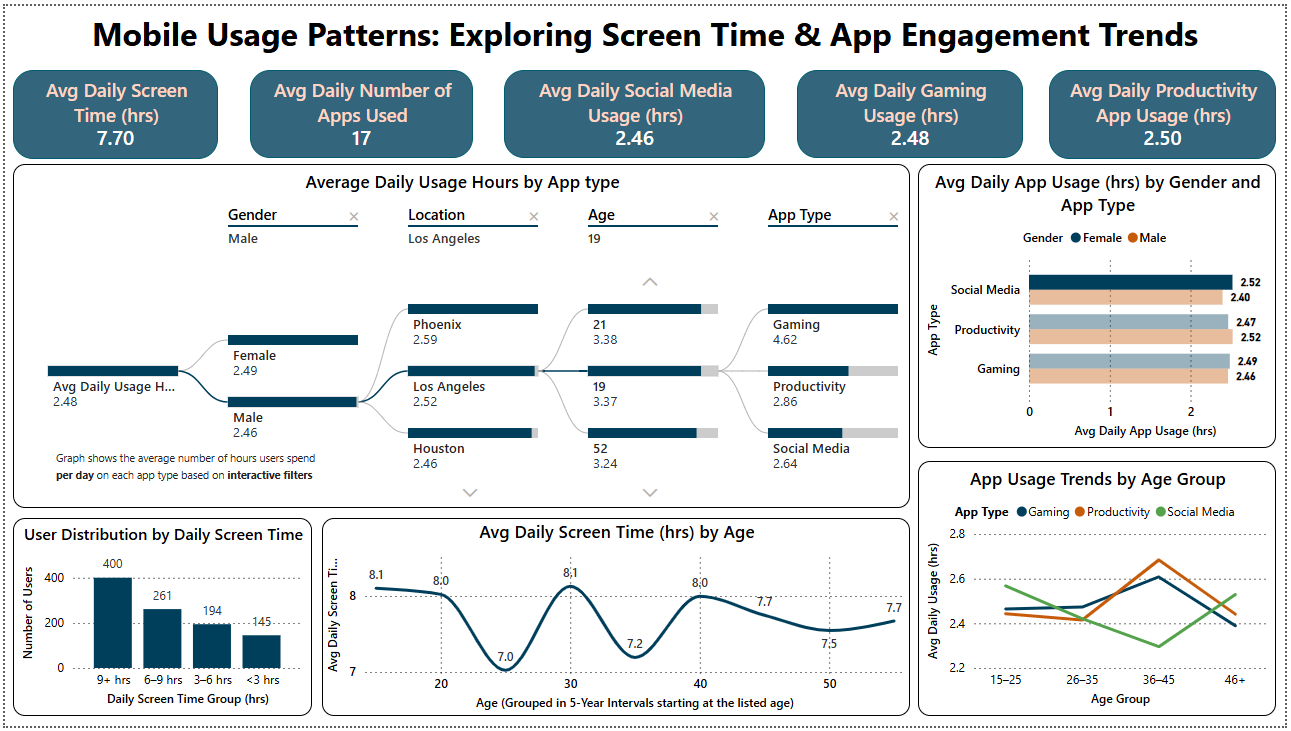

This screenshot's page, from the dashboard's own definition file:
{"tool":"powerbi","page":{"name":"Page 1","canvas":[1280,720],"ordinal":0},"visuals":[{"type":"textbox","box":[0,0,1280,75.8],"z":0},{"type":"decompositionTreeVisual","title":"Average Daily Usage Hours by App type","fields":{"ExplainBy":["mobile_usage_behavioral_analysis.Gender","mobile_usage_behavioral_analysis.Location","mobile_usage_behavioral_analysis.Age","App_Usage_By_Type.App_Usage_Type"],"Analyze":["App_Usage_By_Type.Avg Daily Usage Hours by App Type"]},"box":[8.1,157.6,897.3,343.9],"z":0,"group":"g1"},{"type":"card","title":"Avg Daily Screen Time (hrs)","fields":{"Values":["Avg(mobile_usage_behavioral_analysis.Daily_Screen_Time_Hours)"]},"box":[8.1,63.6,205.1,89],"z":1000},{"type":"card","title":"Avg Daily Number of Apps Used","fields":{"Values":["Avg(mobile_usage_behavioral_analysis.Number_of_Apps_Used)"]},"box":[245.4,63.6,223,88.7],"z":2000},{"type":"card","title":"Avg Daily Social Media Usage (hrs)","fields":{"Values":["Avg(mobile_usage_behavioral_analysis.Social_Media_Usage_Hours)"]},"box":[499,63.6,260.6,88.7],"z":3000},{"type":"card","title":"Avg Daily Productivity App Usage (hrs)","fields":{"Values":["Avg(mobile_usage_behavioral_analysis.Productivity_App_Usage_Hours)"]},"box":[1044.2,63.6,226.6,89],"z":4000},{"type":"card","title":"Avg Daily Gaming Usage (hrs)","fields":{"Values":["Avg(mobile_usage_behavioral_analysis.Gaming_App_Usage_Hours)"]},"box":[791.6,63.6,226.6,88.7],"z":5000},{"type":"lineChart","title":"Avg Daily Screen Time (hrs) by Age","fields":{"Y":["Avg(mobile_usage_behavioral_analysis.Daily_Screen_Time_Hours)"],"Category":["mobile_usage_behavioral_analysis.Age (bins)"]},"box":[317,512.2,588.4,197.9],"z":6000},{"type":"clusteredColumnChart","title":"User Distribution by Daily Screen Time","fields":{"Category":["mobile_usage_behavioral_analysis.ScreenTimeGroup"],"Y":["CountNonNull(mobile_usage_behavioral_analysis.User_ID)"]},"box":[8.1,512.2,299.1,197.9],"z":7000},{"type":"clusteredBarChart","title":"Avg Daily App Usage (hrs) by Gender and App Type","fields":{"Category":["App_Usage_By_Type.App Type"],"Y":["Avg(App_Usage_By_Type.Usage_Hours)"],"Series":["GenderLookup.Gender"]},"box":[913.4,157.6,357.3,284.8],"z":8000},{"type":"lineChart","title":"App Usage Trends by Age Group","fields":{"Y":["Avg(App_Usage_By_Type.Usage_Hours)"],"Series":["App_Usage_By_Type.App Type"],"Category":["App_Usage_By_Type.Age_Group"]},"box":[913.4,454.9,357.3,255.2],"z":9000},{"type":"textbox","box":[45.9,436.5,281.6,61.4],"z":11000,"group":"g1"},{"type":"group","id":"g1","title":"Group 1","box":[8.1,157.6,897.3,343.9],"z":11001}]}

Visuals, with their boxes in screenshot pixels (x1, y1, x2, y2), scaled from the page's 1280x720 canvas onto the 1291x731 screenshot:
textbox: [left=0, top=0, right=1290, bottom=77]
"Average Daily Usage Hours by App type" decompositionTreeVisual: [left=8, top=160, right=913, bottom=509]
"Avg Daily Screen Time (hrs)" card: [left=8, top=65, right=215, bottom=155]
"Avg Daily Number of Apps Used" card: [left=248, top=65, right=472, bottom=155]
"Avg Daily Social Media Usage (hrs)" card: [left=503, top=65, right=766, bottom=155]
"Avg Daily Productivity App Usage (hrs)" card: [left=1053, top=65, right=1282, bottom=155]
"Avg Daily Gaming Usage (hrs)" card: [left=798, top=65, right=1027, bottom=155]
"Avg Daily Screen Time (hrs) by Age" lineChart: [left=320, top=520, right=913, bottom=721]
"User Distribution by Daily Screen Time" clusteredColumnChart: [left=8, top=520, right=310, bottom=721]
"Avg Daily App Usage (hrs) by Gender and App Type" clusteredBarChart: [left=921, top=160, right=1282, bottom=449]
"App Usage Trends by Age Group" lineChart: [left=921, top=462, right=1282, bottom=721]
textbox: [left=46, top=443, right=330, bottom=506]
"Group 1" group: [left=8, top=160, right=913, bottom=509]
